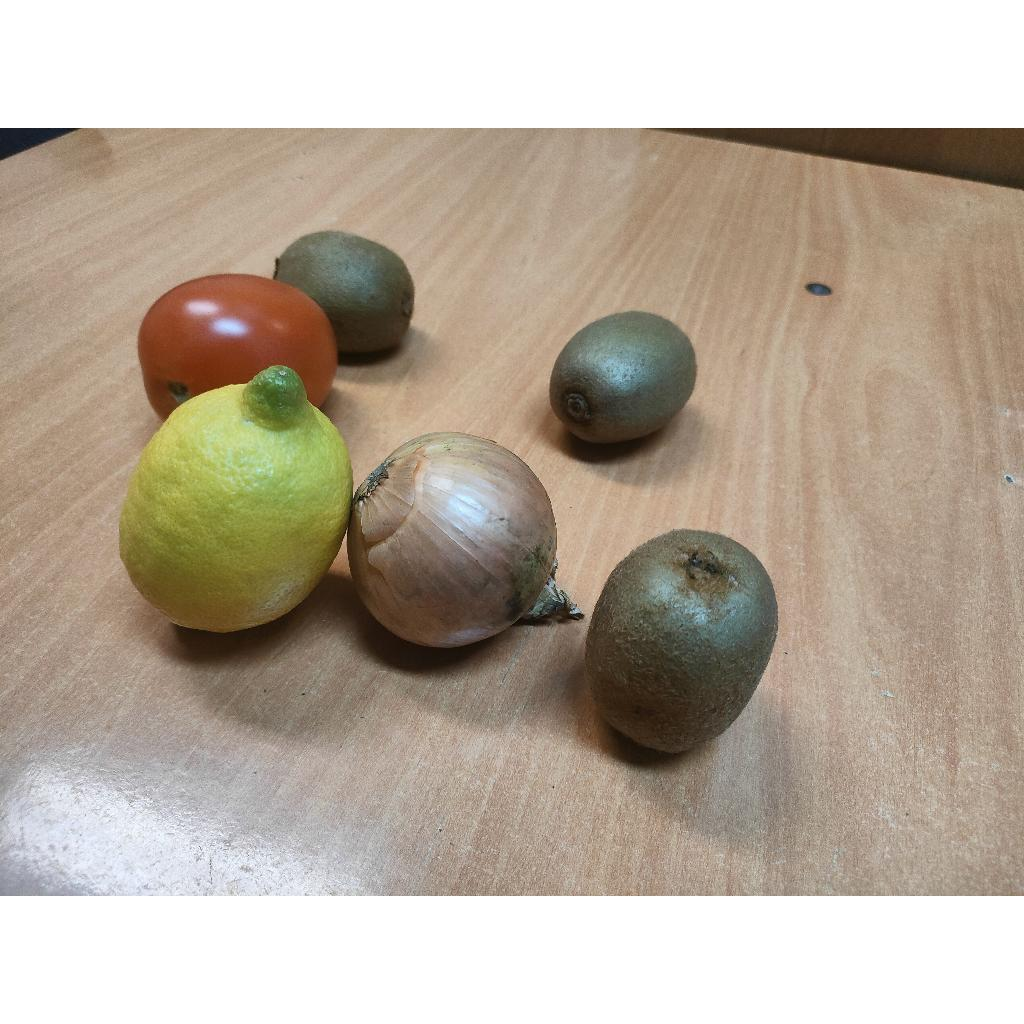kiwi: (586, 530, 778, 752), (550, 312, 696, 442), (274, 230, 414, 352)
lemon: (120, 366, 352, 632), (348, 432, 556, 646)
tomato: (138, 274, 338, 418)
